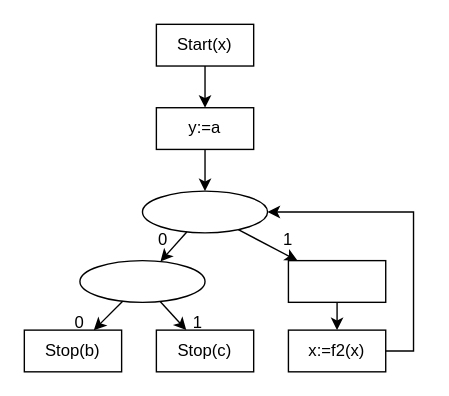
The diagram is 449 pixels wide and 396 high, and some of its shapes have lost their labels. The centre of each missing label's shape, as x and y in pixels:
"p1(x, y)" goes at pixel 204 211.
"p2(y)" goes at pixel 142 280.
"y:=f1(x)" goes at pixel 336 280.
